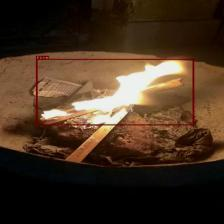fire: (36, 59, 194, 125)
